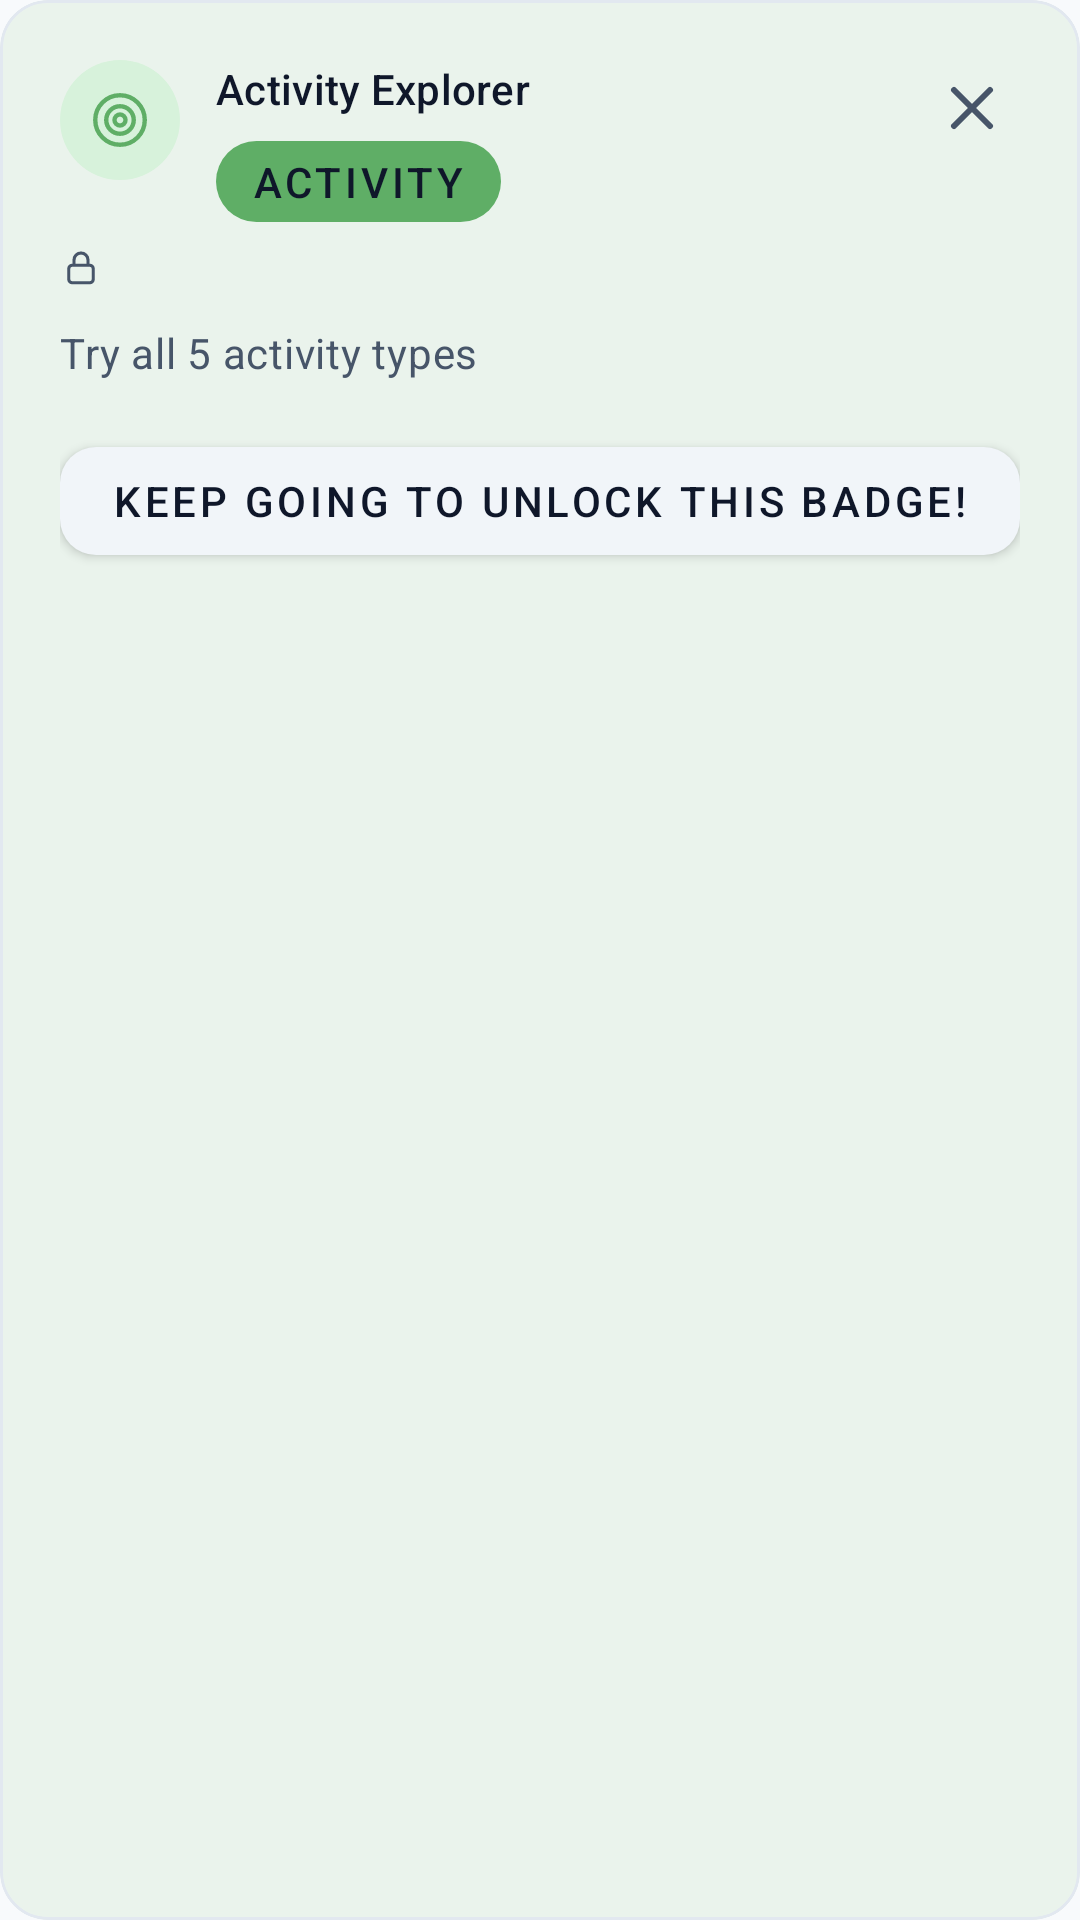

Icons on this 1080px x 1920px Android screen, each with its box as (x1, y1, x2, y2):
close: (951, 87, 993, 129)
target: (93, 93, 147, 147)
